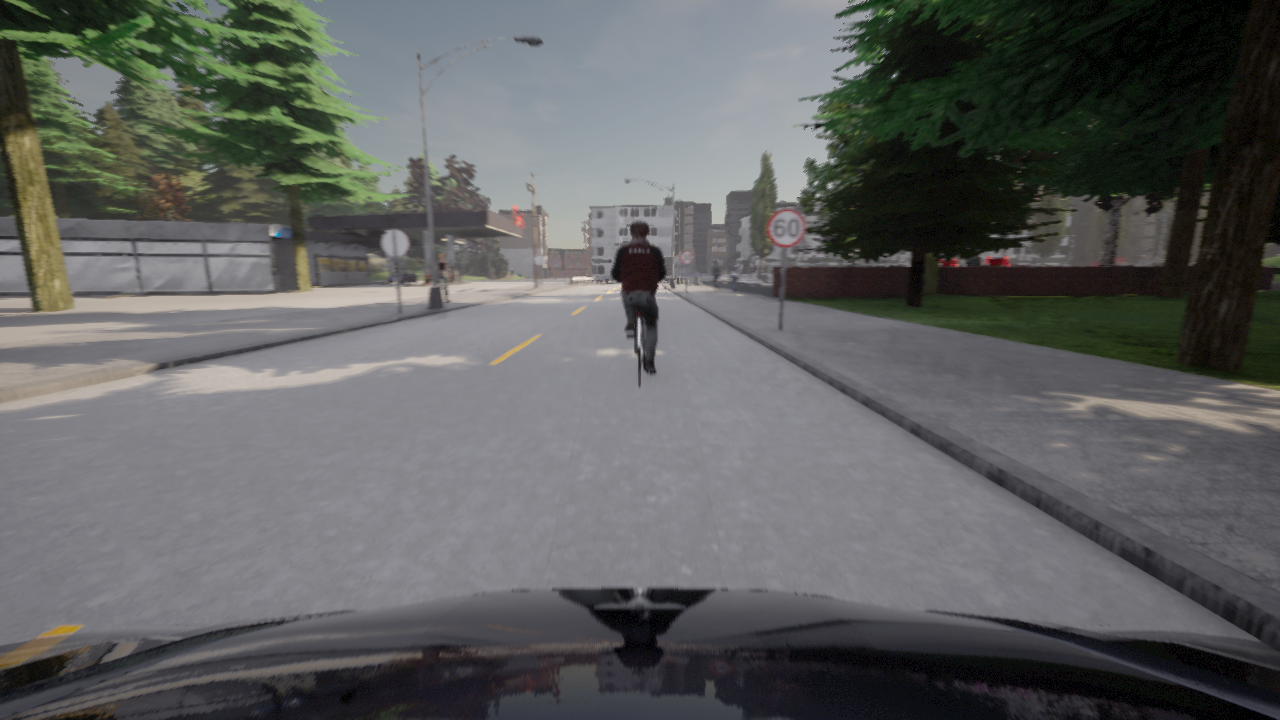cyclist: (0, 588, 1279, 719), (627, 309, 654, 386), (388, 269, 417, 284), (680, 271, 699, 275), (698, 272, 710, 275), (635, 308, 637, 311)
pedestrian: (436, 253, 450, 302), (709, 261, 720, 292), (729, 261, 738, 293)
